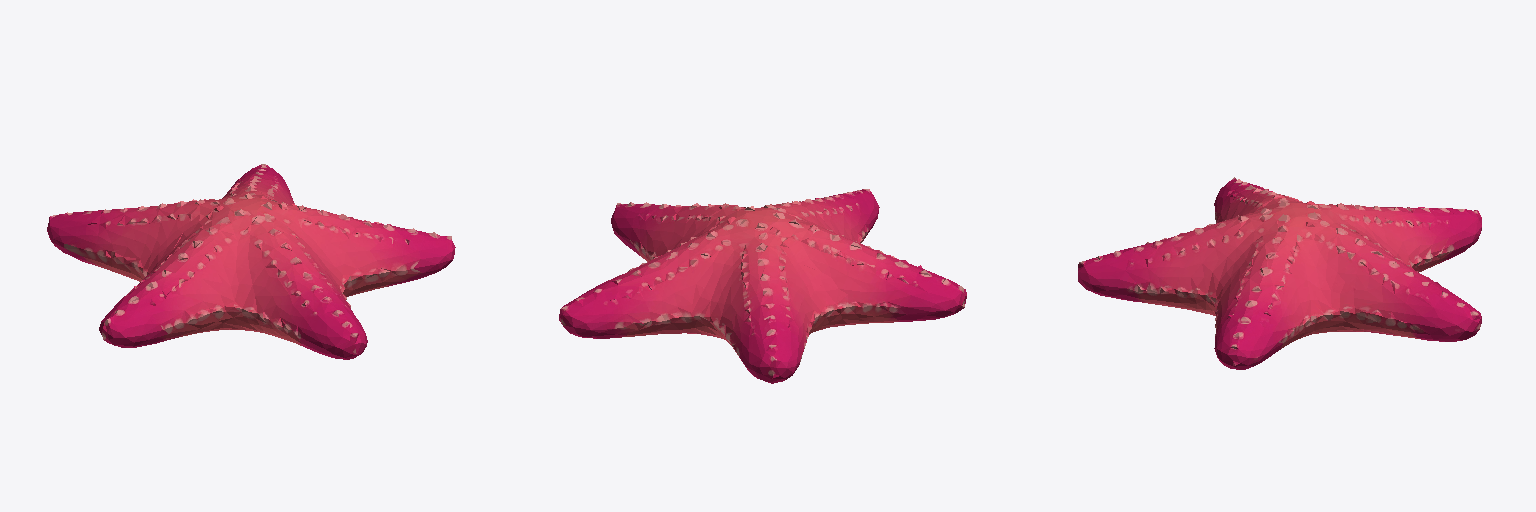
3 renders of one model, left to right at view 1: azimuth 30°, elevation 25°; view 2: azimuth 150°, elevation 25°; view 3: azimuth 270°, elevation 25°, orthographic.
Visible parts, largest first — view 1: tripo_node_4dc85a14-ca5e-42a9-a52f-908d[number redacted]; view 2: tripo_node_4dc85a14-ca5e-42a9-a52f-908d[number redacted]; view 3: tripo_node_4dc85a14-ca5e-42a9-a52f-908d[number redacted].
Boxes of the visible parts, <box> form: tripo_node_4dc85a14-ca5e-42a9-a52f-908d[number redacted]: <box>47,164,455,359</box>; tripo_node_4dc85a14-ca5e-42a9-a52f-908d[number redacted]: <box>559,189,966,383</box>; tripo_node_4dc85a14-ca5e-42a9-a52f-908d[number redacted]: <box>1078,177,1481,369</box>.
Bounding box in the file's own units: 1 × 0.2615 × 1.
Materials: 1 (1 with a texture image).